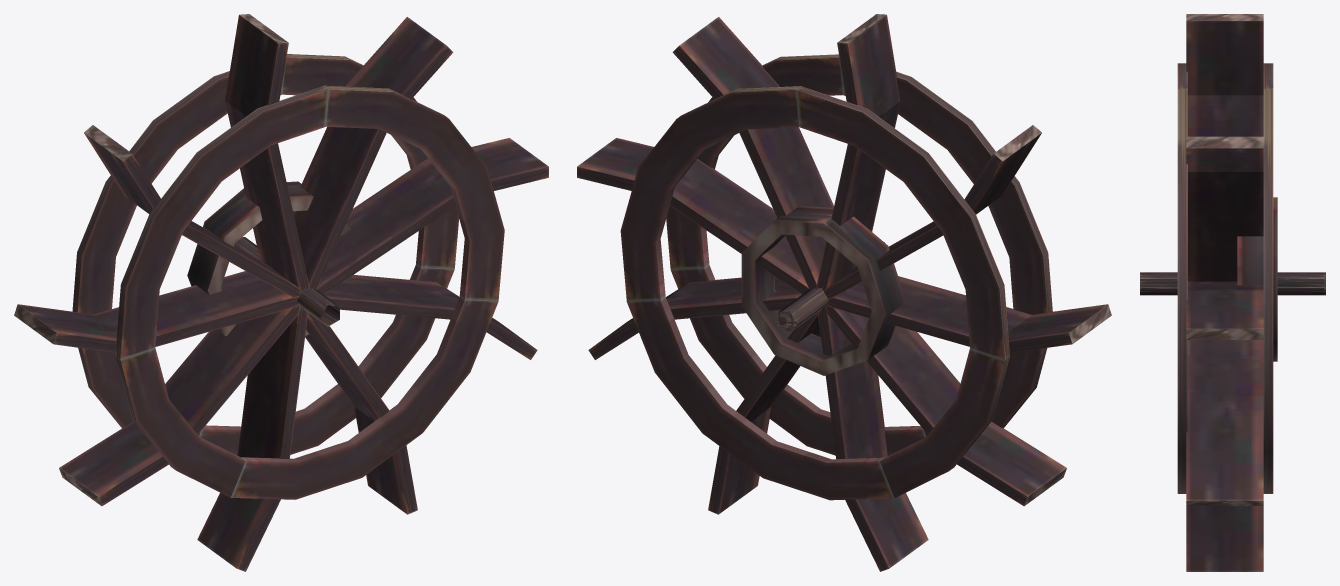
File: WaterWheel.fbx
The picture shows the model from 3 angles, left to right: view 1: azimuth 30°, elevation 25°; view 2: azimuth 150°, elevation 25°; view 3: azimuth 270°, elevation 25°; orthographic projection.
Parts seen in each view (by area): view 1: WaterWheel; view 2: WaterWheel; view 3: WaterWheel.
Part boxes in pixels (x1,y1,x2,y2): WaterWheel: [14, 14, 548, 571]; WaterWheel: [577, 14, 1111, 571]; WaterWheel: [1140, 14, 1325, 571].
Bounding box in the file's own units: 16.98 × 17.05 × 5.62.
Materials: 1 (1 with a texture image).
